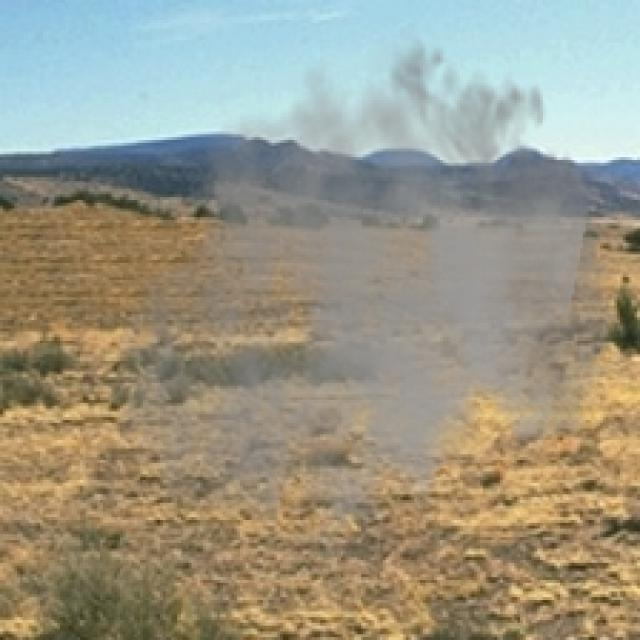Smoke: (111, 20, 626, 586)
